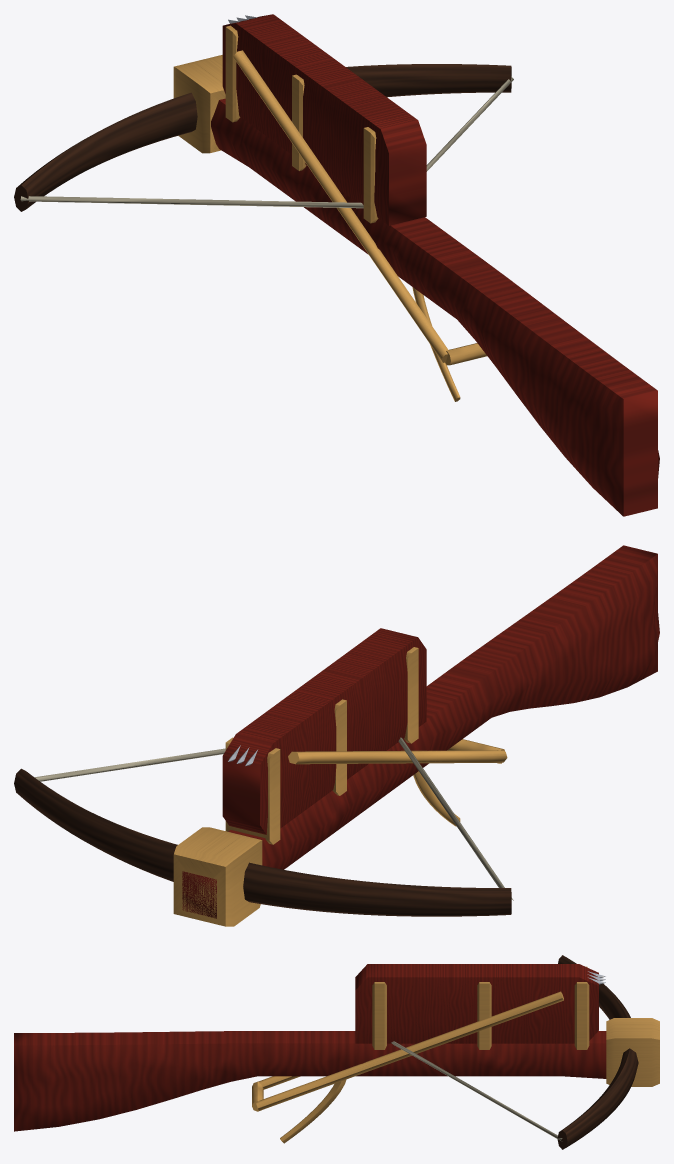
The model's file is RepeatingCrossbow.glb.
3 renders of one model, top to bottom at view 1: azimuth 30°, elevation 25°; view 2: azimuth 150°, elevation 25°; view 3: azimuth 270°, elevation 25°, orthographic. The views are drawn at different scales.
Visible parts, largest first — view 1: RepeatingCrossbow; view 2: RepeatingCrossbow; view 3: RepeatingCrossbow.
Boxes of the visible parts, x1=… form: RepeatingCrossbow: x1=14, y1=14, x2=659, y2=516; RepeatingCrossbow: x1=14, y1=545, x2=659, y2=926; RepeatingCrossbow: x1=14, y1=955, x2=659, y2=1149.
Bounding box in the file's own units: 1.73 × 0.7803 × 2.65.
1 material, 1 textured.
